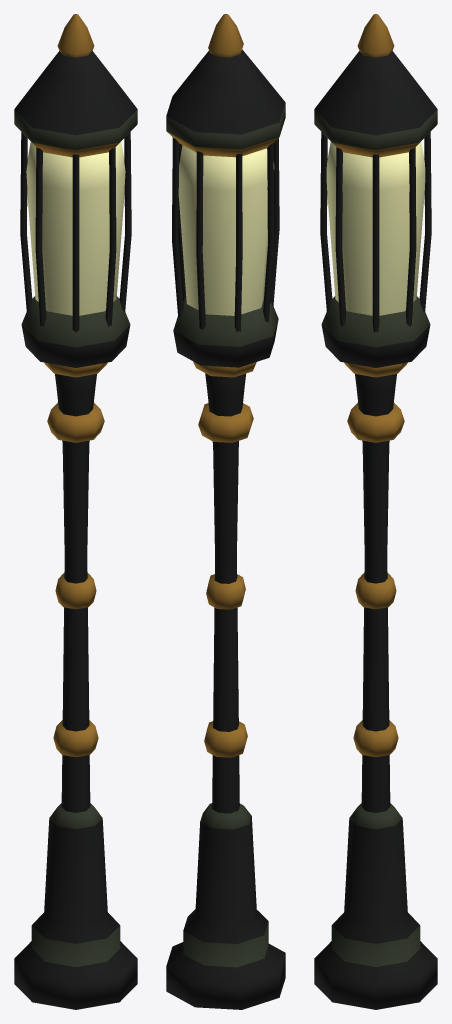
Rendered from farol_forjado.obj.
3 views of the same model, side by side, from view 1: azimuth 90°, elevation 25°; view 2: azimuth 150°, elevation 25°; view 3: azimuth 270°, elevation 25° (orthographic).
Parts seen in each view (by area): view 1: farol_forjado; view 2: farol_forjado; view 3: farol_forjado.
Boxes of the visible parts, x1,y1,x2,y2 form: farol_forjado: [14, 14, 137, 1009]; farol_forjado: [166, 14, 285, 1009]; farol_forjado: [314, 14, 437, 1009].
Bounding box in the file's own units: 0.1202 × 1.04 × 0.1202.
